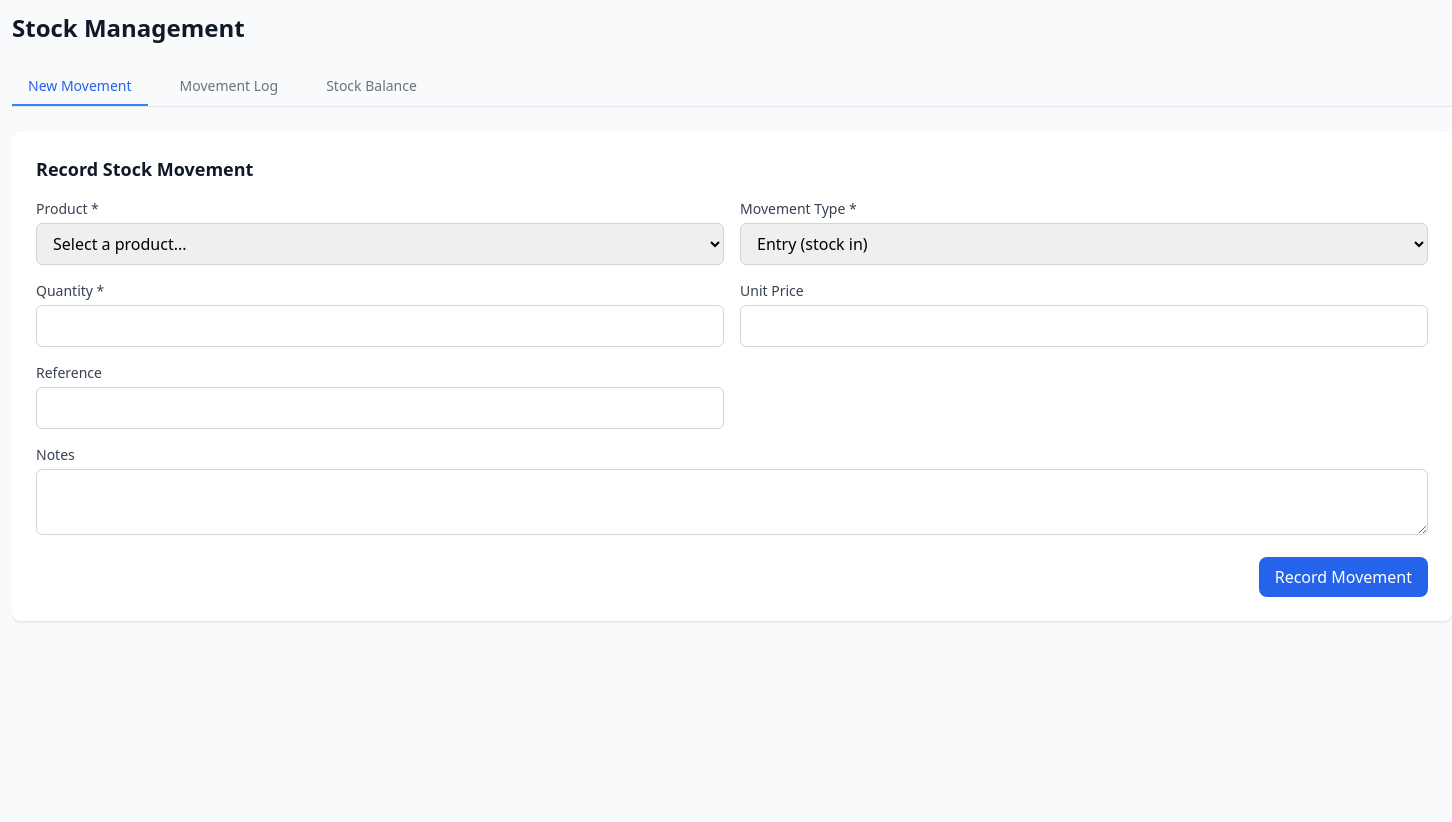
it: StockPage › shows success message after recording movement
Select "Test Product" in the dropdown labelled "Product *": (380, 244) [36,223,724,265]
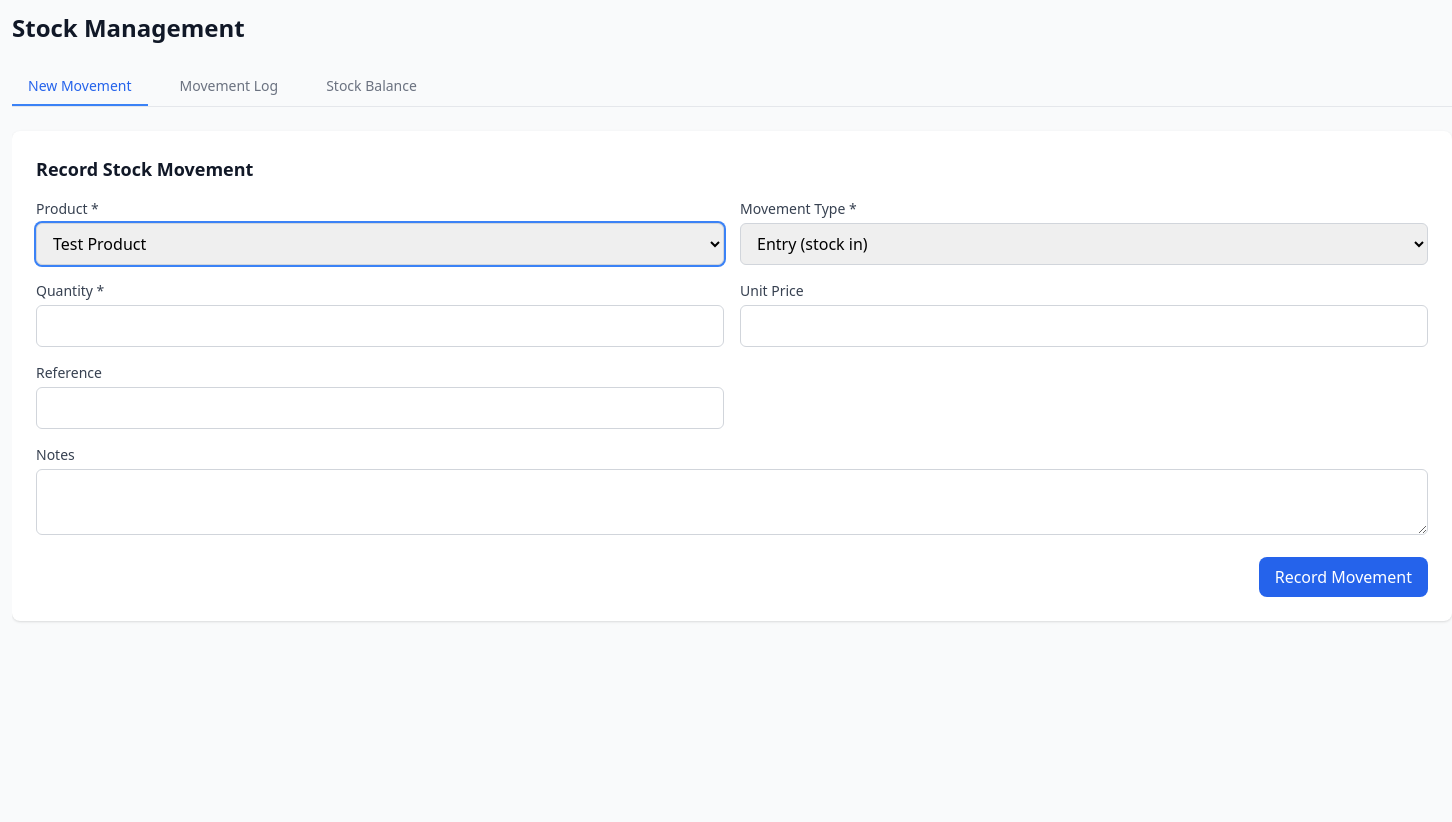
In the number field labelled "Quantity *": (380, 326) [36,305,724,347], type "3"
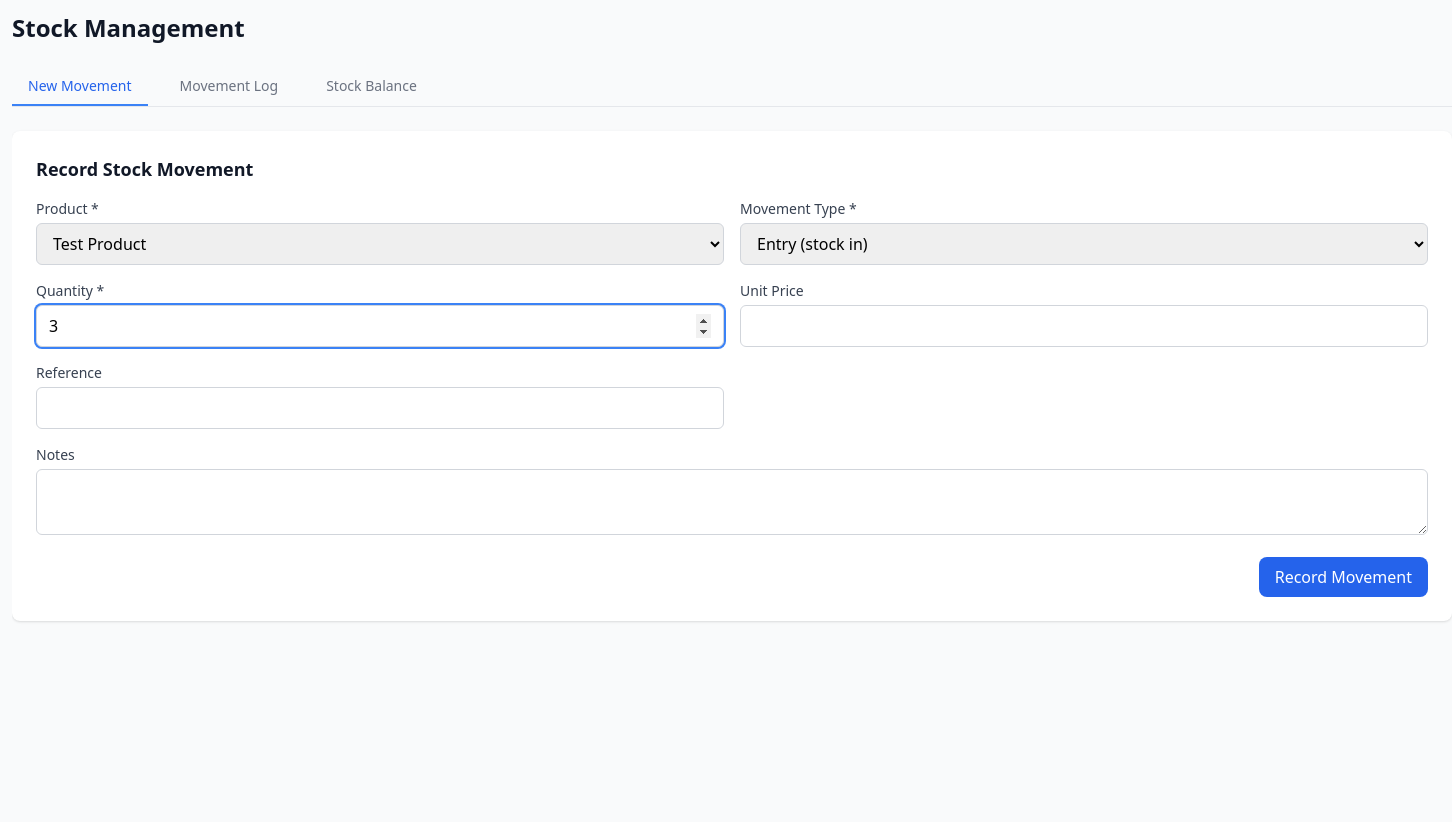
Click the button "Record Movement": (1343, 577) [1259,557,1428,597]
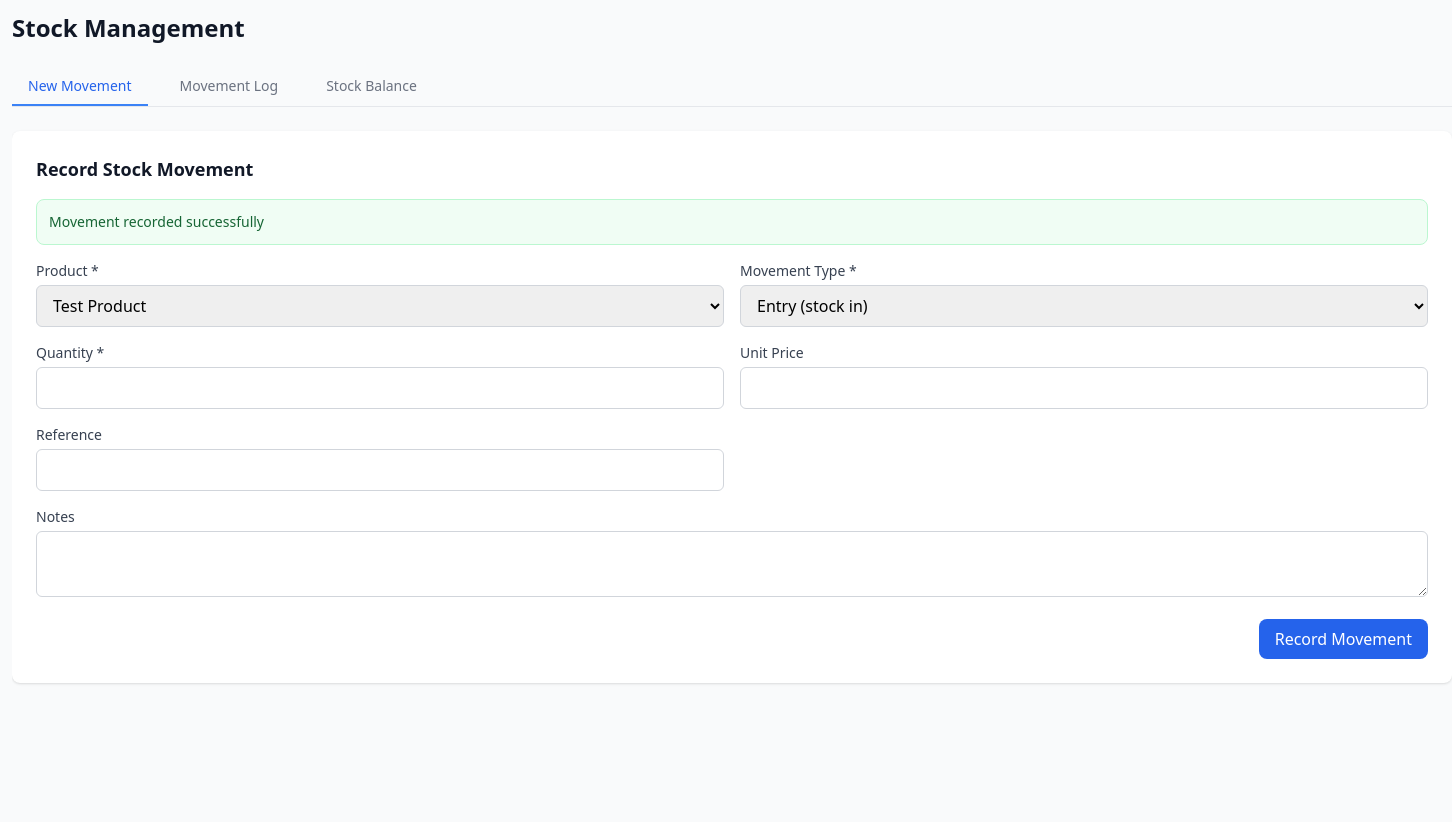
Now the text "Movement recorded successfully" is shown, box [36,199,1428,245]
